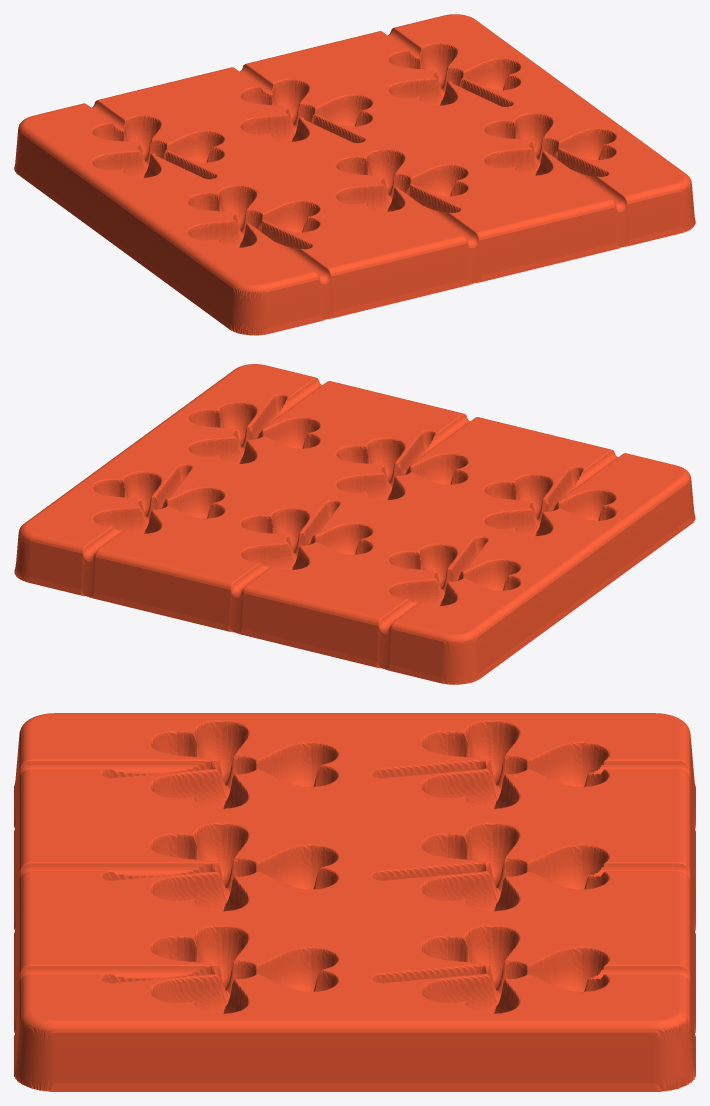
Rendered from mold.glb.
3 views of the same model, one above another, from view 1: azimuth 30°, elevation 25°; view 2: azimuth 150°, elevation 25°; view 3: azimuth 270°, elevation 25° (orthographic). The views are drawn at different scales.
Visible parts, largest first — view 1: geometry_0; view 2: geometry_0; view 3: geometry_0.
Part boxes in pixels (x1,y1,x2,y2): geometry_0: (14, 14, 695, 335); geometry_0: (14, 364, 695, 684); geometry_0: (14, 713, 695, 1091).
Bounding box in the file's own units: 0.164 × 0.0155 × 0.1477.
